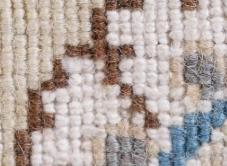Knot: (11, 34, 28, 46), (52, 153, 68, 165), (185, 56, 198, 70), (132, 139, 145, 153), (143, 85, 157, 97), (211, 73, 225, 85), (105, 85, 119, 97), (54, 114, 68, 126), (69, 153, 83, 165), (132, 127, 145, 139), (132, 71, 145, 83), (170, 102, 183, 114), (200, 87, 213, 99), (68, 102, 81, 114), (119, 139, 132, 151), (183, 112, 196, 124), (170, 85, 183, 97), (130, 114, 143, 126), (119, 58, 132, 70), (170, 73, 183, 85), (130, 21, 143, 33), (200, 61, 213, 73), (170, 44, 183, 56), (132, 153, 145, 165), (145, 141, 158, 153), (196, 112, 209, 124), (185, 83, 198, 95), (183, 17, 196, 29), (68, 73, 81, 85), (68, 87, 81, 99), (77, 7, 90, 19), (13, 61, 26, 73), (26, 61, 39, 73), (172, 141, 185, 153), (13, 75, 26, 87), (185, 144, 198, 156), (51, 21, 64, 33), (15, 90, 28, 102), (105, 33, 119, 44), (1, 154, 15, 165), (211, 19, 223, 31), (145, 100, 157, 112), (158, 114, 170, 126), (56, 90, 68, 102), (56, 139, 68, 151), (105, 153, 117, 165), (54, 73, 66, 85), (107, 112, 119, 124), (211, 114, 223, 126), (107, 48, 119, 60), (39, 46, 51, 58), (28, 116, 41, 127), (81, 126, 92, 139), (94, 126, 105, 139), (145, 154, 158, 165), (200, 44, 213, 55), (79, 31, 90, 44), (68, 60, 81, 71), (105, 11, 119, 21), (105, 141, 119, 151), (81, 139, 92, 151), (68, 126, 79, 138), (134, 58, 145, 70), (185, 41, 196, 53), (157, 44, 168, 56), (43, 129, 54, 141), (119, 85, 130, 97), (94, 153, 105, 165), (56, 127, 68, 138), (200, 100, 211, 112), (30, 153, 41, 165), (43, 141, 54, 153), (119, 153, 130, 165), (28, 78, 39, 90), (17, 131, 28, 143), (119, 126, 130, 138), (185, 124, 196, 136), (119, 73, 132, 83), (68, 114, 81, 124), (170, 114, 183, 124), (155, 21, 168, 31), (185, 73, 198, 83), (51, 34, 64, 44), (28, 104, 41, 114), (198, 73, 211, 83), (39, 80, 52, 90), (66, 34, 79, 44), (168, 9, 181, 19), (170, 61, 183, 71), (92, 21, 105, 31), (198, 19, 211, 29), (198, 144, 211, 154), (92, 11, 105, 21), (15, 119, 28, 129), (66, 21, 79, 31), (24, 9, 37, 19), (64, 9, 77, 19), (170, 29, 183, 39), (15, 104, 28, 114), (26, 36, 39, 46), (170, 126, 183, 136), (51, 9, 64, 19), (168, 19, 181, 29), (209, 7, 223, 16), (158, 156, 172, 165), (81, 60, 92, 71), (119, 22, 130, 33), (15, 154, 26, 165), (213, 31, 223, 43), (211, 100, 223, 110), (92, 141, 104, 151), (52, 46, 64, 56), (147, 58, 157, 70), (158, 73, 168, 85), (145, 73, 157, 83), (158, 100, 168, 112), (158, 141, 170, 151), (39, 61, 51, 71), (107, 73, 119, 83), (105, 21, 117, 31), (145, 116, 157, 126), (158, 127, 168, 139), (196, 7, 208, 17), (213, 87, 223, 99), (211, 131, 223, 141), (158, 85, 168, 97), (213, 43, 225, 53), (105, 99, 117, 109), (37, 9, 49, 19), (39, 34, 51, 44), (143, 11, 155, 21), (39, 21, 51, 31), (172, 156, 185, 165), (30, 131, 41, 141), (119, 11, 130, 21), (158, 60, 168, 71), (94, 114, 105, 124), (134, 46, 145, 56), (121, 46, 132, 56), (79, 21, 90, 31), (119, 97, 130, 107), (211, 154, 221, 165), (132, 85, 143, 95), (94, 60, 105, 70), (130, 11, 141, 21), (68, 46, 79, 56), (183, 29, 194, 39), (94, 73, 105, 83), (198, 131, 209, 141), (81, 48, 92, 58), (28, 92, 39, 102), (94, 48, 105, 58), (119, 109, 130, 119), (13, 7, 24, 17), (43, 114, 52, 126), (83, 112, 92, 124), (83, 85, 92, 97), (43, 153, 52, 165), (83, 153, 92, 165), (83, 100, 92, 112), (41, 92, 51, 102), (56, 104, 66, 114), (145, 21, 155, 31), (147, 129, 157, 139), (145, 46, 155, 56), (211, 144, 221, 154), (94, 87, 104, 97), (107, 126, 117, 136), (94, 100, 104, 110), (107, 61, 117, 71), (119, 34, 130, 43), (157, 34, 168, 43), (132, 34, 143, 43), (185, 156, 196, 165), (200, 156, 211, 165), (71, 139, 79, 151), (145, 34, 155, 43), (83, 73, 92, 83), (185, 102, 194, 112), (32, 143, 41, 153), (96, 38, 105, 48), (157, 9, 166, 19), (134, 97, 143, 107), (43, 104, 54, 112), (200, 31, 211, 39), (183, 9, 194, 17), (15, 144, 22, 153)
